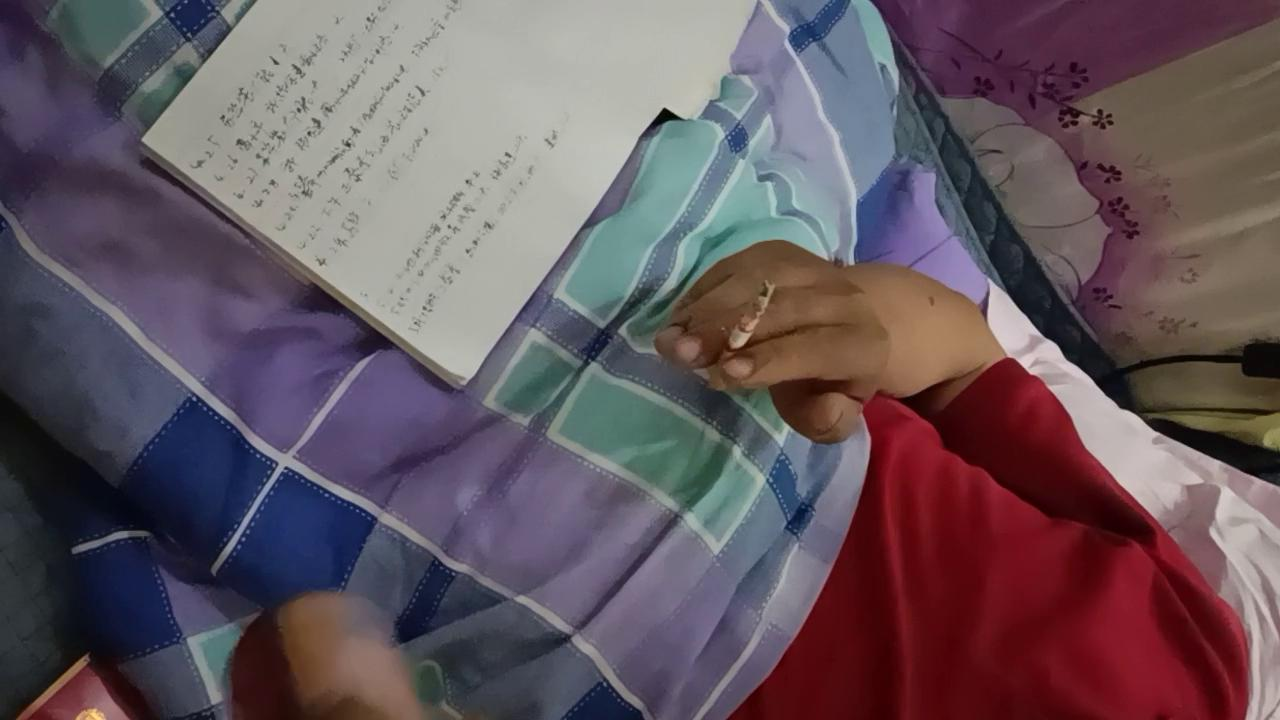smoke: (707, 280, 778, 392)
